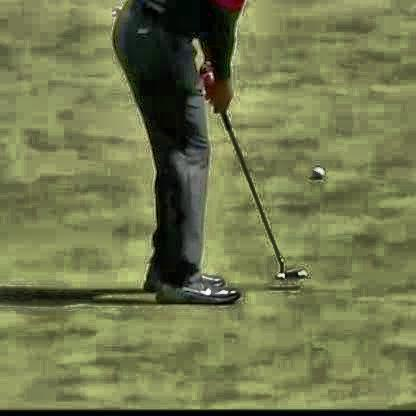golfball: (307, 163, 320, 176)
